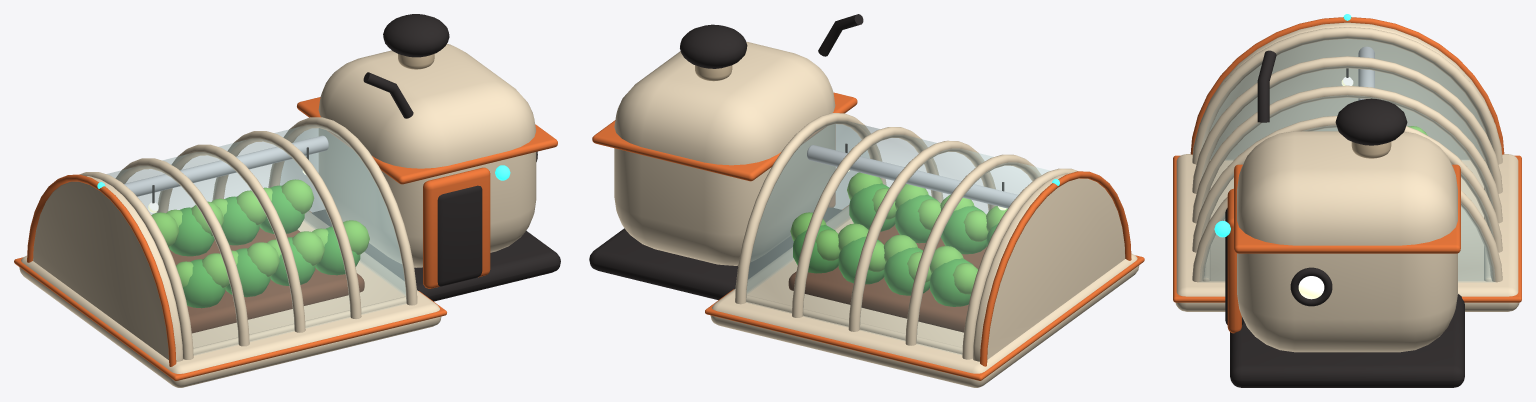
Rendered from greenhouse-1i.glb.
3 renders of one model, left to right at view 1: azimuth 30°, elevation 25°; view 2: azimuth 150°, elevation 25°; view 3: azimuth 270°, elevation 25°, orthographic. The views are drawn at different scales.
Visible parts, largest first — view 1: Cube.001, Cylinder, Cube.007, Cube.002, Sphere.001, Sphere.002, Cube.005, Cylinder.004; view 2: Cube.001, Cylinder, Cube.007, Cube.002, Sphere.001, Sphere.002, Cube.005, Cylinder.004; view 3: Cube.001, Cylinder, Cube.007, Cube.002, Cube, Cylinder.004, Cylinder.005.
Boxes of the visible parts, x1,y1,x2,y2 form: Cube.001: (19,44,536,387); Cylinder: (106,125,406,355); Cube.007: (152,14,560,301); Cube.002: (14,97,557,380); Sphere.001: (168,185,360,308); Sphere.002: (151,179,369,287); Cube.005: (169,227,364,333); Cylinder.004: (124,135,328,196); Cube.001: (614,41,1139,387); Cylinder: (746,121,1050,354); Cube.007: (589,14,1004,300); Cube.002: (592,92,1144,380); Sphere.001: (793,183,998,306); Sphere.002: (790,172,1007,294); Cube.005: (788,224,986,332); Cylinder.004: (807,145,1018,208); Cube.001: (1175,22,1519,352); Cylinder: (1199,36,1495,282); Cube.007: (1225,50,1464,387); Cube.002: (1173,17,1521,333); Cube: (1351,142,1391,158); Cylinder.004: (1358,46,1374,100); Cylinder.005: (1298,276,1324,299).
Bounding box in the file's own units: 2.17 × 1.14 × 1.46.
